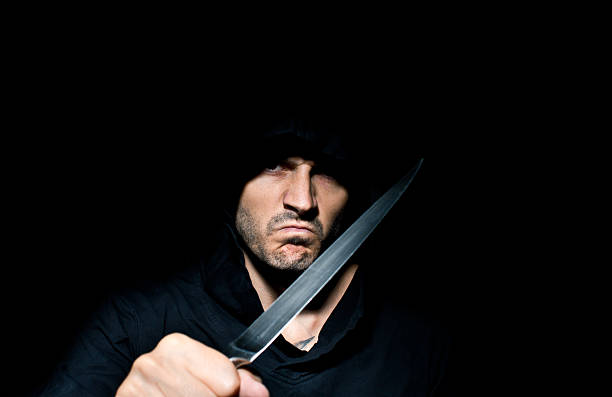knife: (222, 154, 426, 370)
